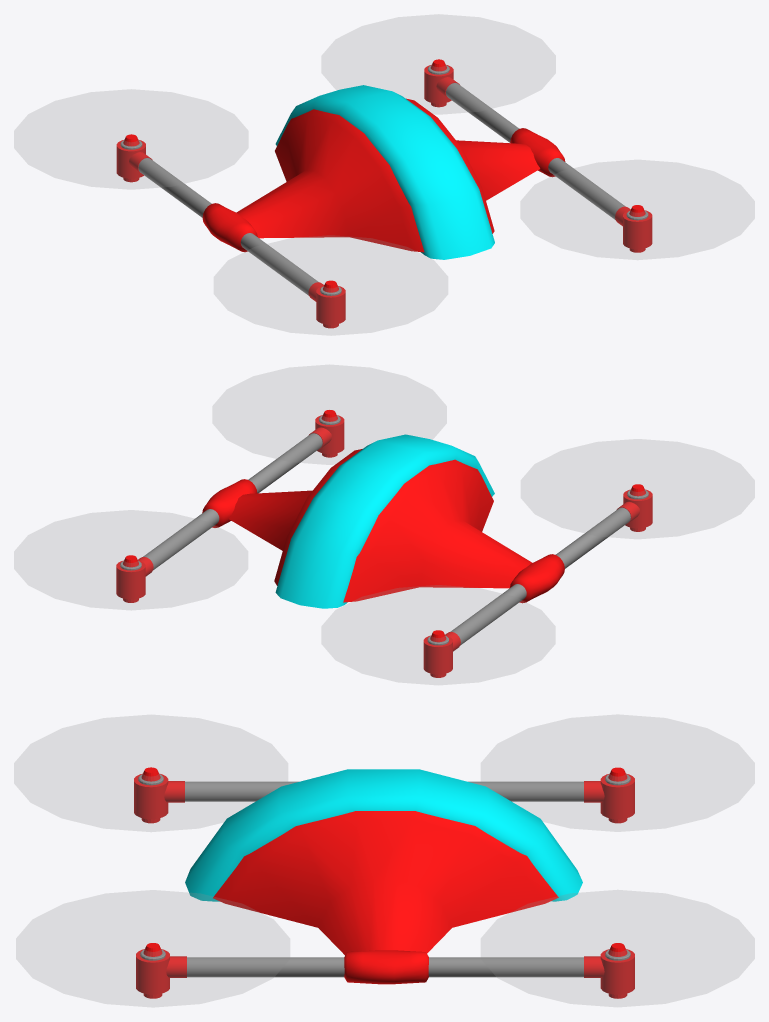
The model's file is Drone_v1.FBX.
3 renders of one model, top to bottom at view 1: azimuth 30°, elevation 25°; view 2: azimuth 150°, elevation 25°; view 3: azimuth 270°, elevation 25°, orthographic. The views are drawn at different scales.
Parts seen in each view (by area): view 1: Plane002; view 2: Plane002; view 3: Plane002.
Boxes of the visible parts, bbox=[...] form: Plane002: bbox=[14, 14, 754, 335]; Plane002: bbox=[14, 365, 754, 684]; Plane002: bbox=[14, 714, 754, 1007].
Size of the model in its own units: 87.57 by 17.41 by 93.51.
